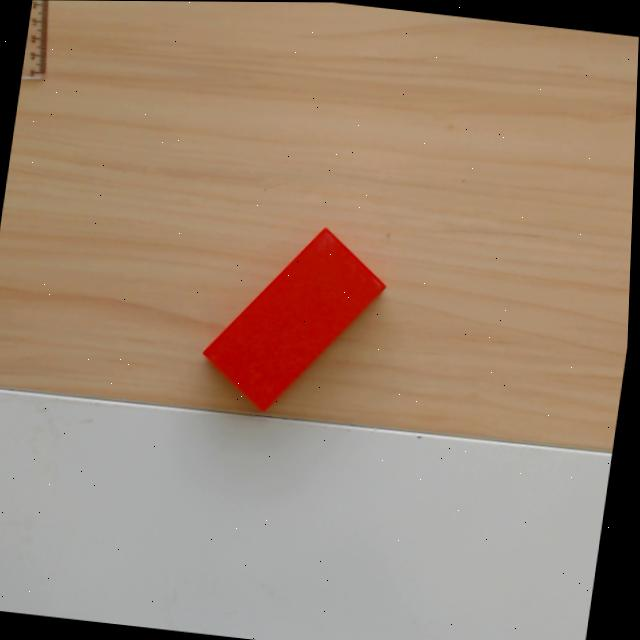Balok-Merah-1005025: (200, 225, 387, 413)
